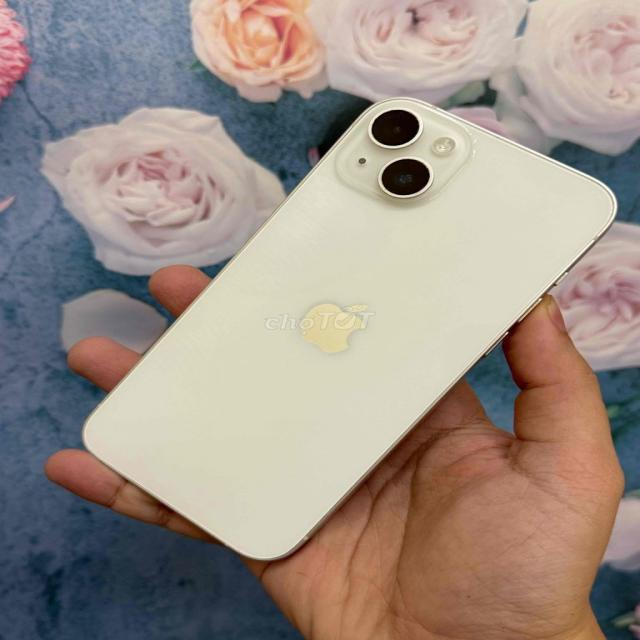gen_14: (81, 82, 623, 566)
